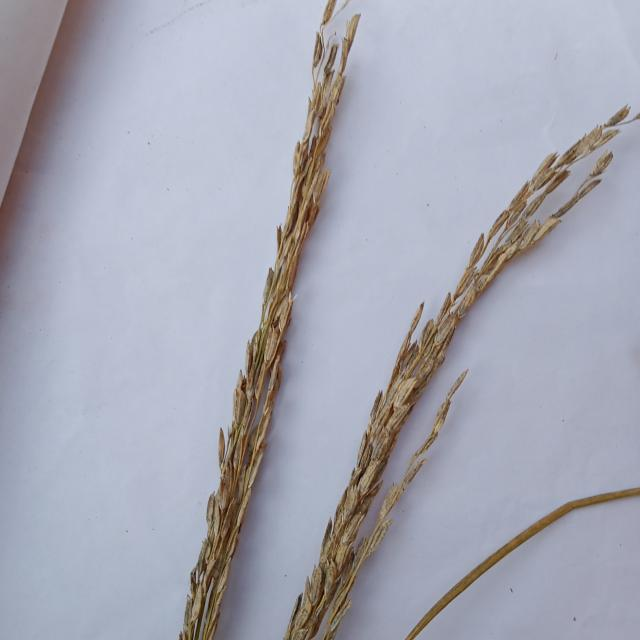Neck_Blast: (281, 111, 623, 639), (177, 1, 352, 636)
